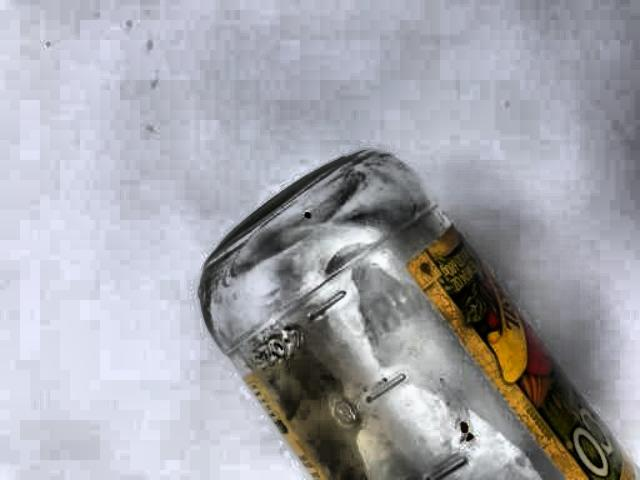Bottles: (155, 124, 598, 480)
